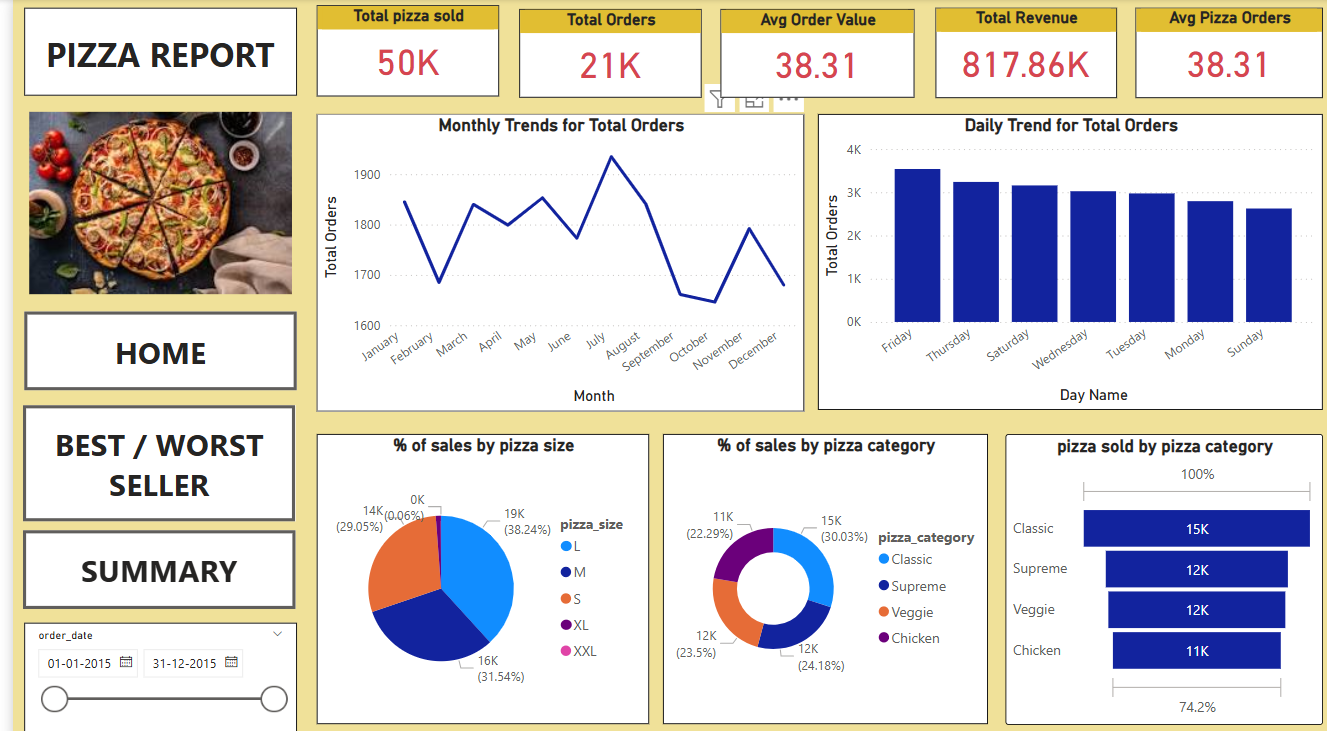

The page's visual inventory and layout, read from the dashboard file:
{"tool":"powerbi","page":{"name":"HOME","canvas":[1280,720],"ordinal":2},"visuals":[{"type":"pieChart","title":"% of sales by pizza size","fields":{"Category":["pizza_sales.pizza_size"],"Y":["pizza_sales.Total Pizza Sold"]},"box":[293.2,419.8,320.9,279.9],"z":0},{"type":"donutChart","title":"% of sales by pizza category","fields":{"Category":["pizza_sales.pizza_category"],"Y":["pizza_sales.Total Pizza Sold"]},"box":[627.3,419.8,313.7,279.9],"z":1000},{"type":"lineChart","title":"Monthly Trends for Total Orders","fields":{"Category":["pizza_sales.order_date.Variation.Date Hierarchy.Month"],"Y":["pizza_sales.Total Orders"]},"box":[293.2,111,470.5,287.1],"z":2000},{"type":"columnChart","title":"Daily Trend for Total  Orders","fields":{"Y":["pizza_sales.Total Orders"],"Category":["pizza_sales.Day Name"]},"box":[776.9,111,487.4,285.9],"z":3000},{"type":"funnel","title":"pizza sold by pizza category","fields":{"Category":["pizza_sales.pizza_category"],"Y":["pizza_sales.Total Pizza Sold"]},"box":[957.9,419.8,306.4,281.1],"z":4000},{"type":"textbox","box":[10.9,8.4,263,84.5],"z":5001},{"type":"slicer","fields":{"Values":["pizza_sales.order_date"]},"box":[10.9,602,263,109.8],"z":5002},{"type":"image","box":[10.9,92.9,263,208.7],"z":5003},{"type":"actionButton","box":[10.9,301.6,263,76],"z":5004},{"type":"actionButton","box":[9.7,392.1,263,112.2],"z":5005},{"type":"actionButton","box":[9.7,512.7,263,76],"z":5006},{"type":"card","title":"Total Revenue","fields":{"Values":["pizza_sales.Total Revenue"]},"box":[890.4,8.4,174.9,86.9],"z":5007},{"type":"card","title":"Total pizza sold","fields":{"Values":["pizza_sales.Total Orders"]},"box":[293.2,6,176.1,88.1],"z":5008},{"type":"card","title":"Total Orders","fields":{"Values":["pizza_sales.Total Orders"]},"box":[488.6,9.7,176.1,85.7],"z":5009},{"type":"card","title":"Avg Order Value","fields":{"Values":["pizza_sales.Avg Order Value"]},"box":[682.8,9.7,187,85.7],"z":5010},{"type":"card","title":"Avg Pizza Orders","fields":{"Values":["pizza_sales.Avg pizzas Orders"]},"box":[1083.4,8.4,181,86.9],"z":5011}]}

Visuals, with their boxes in screenshot pixels (x1, y1, x2, y2), scaled from the page's 1280x720 canvas onto the 1327x731 screenshot:
"% of sales by pizza size" pieChart: select_region(304, 426, 637, 710)
"% of sales by pizza category" donutChart: select_region(650, 426, 976, 710)
"Monthly Trends for Total Orders" lineChart: select_region(304, 113, 792, 404)
"Daily Trend for Total  Orders" columnChart: select_region(805, 113, 1311, 403)
"pizza sold by pizza category" funnel: select_region(993, 426, 1311, 712)
textbox: select_region(11, 9, 284, 94)
slicer - pizza_sales.order_date: select_region(11, 611, 284, 723)
image: select_region(11, 94, 284, 306)
actionButton: select_region(11, 306, 284, 383)
actionButton: select_region(10, 398, 283, 512)
actionButton: select_region(10, 521, 283, 598)
"Total Revenue" card: select_region(923, 9, 1104, 97)
"Total pizza sold" card: select_region(304, 6, 487, 96)
"Total Orders" card: select_region(507, 10, 689, 97)
"Avg Order Value" card: select_region(708, 10, 902, 97)
"Avg Pizza Orders" card: select_region(1123, 9, 1311, 97)
